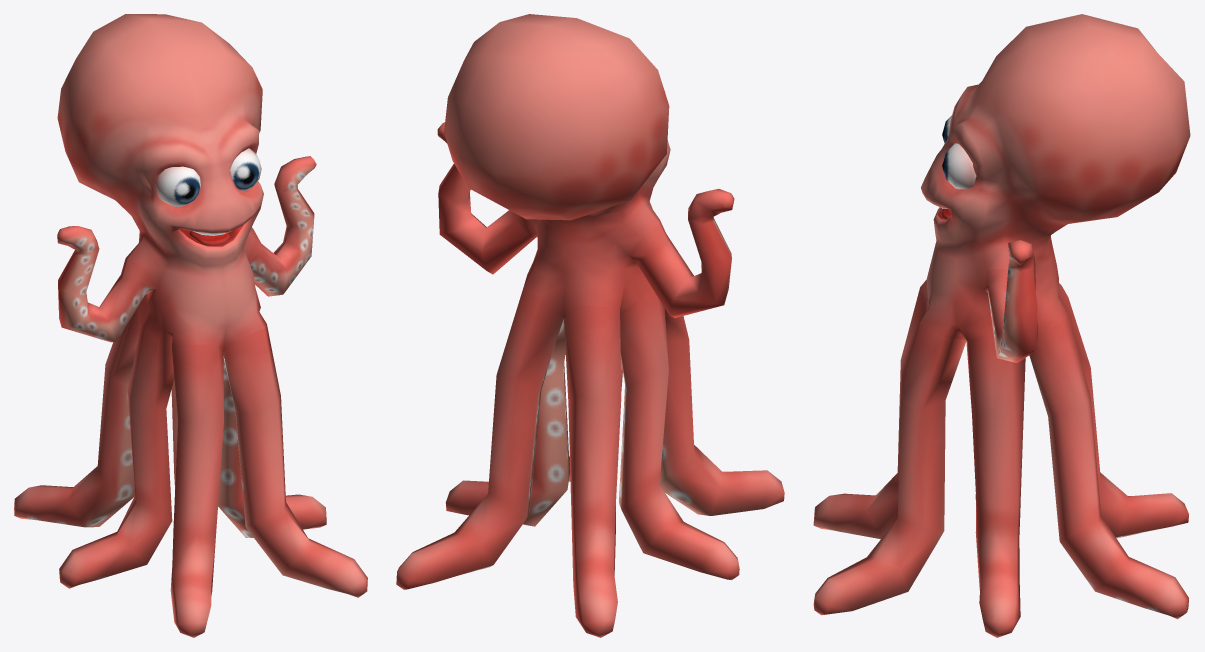
Rendered from Octopus.FBX.
The picture shows the model from 3 angles, left to right: view 1: azimuth 30°, elevation 25°; view 2: azimuth 150°, elevation 25°; view 3: azimuth 270°, elevation 25°; orthographic projection. The views are drawn at different scales.
Visible parts, largest first — view 1: Pulpo; view 2: Pulpo; view 3: Pulpo.
Part boxes in pixels (x1=…): Pulpo: x1=14, y1=14, x2=367, y2=637; Pulpo: x1=396, y1=14, x2=784, y2=637; Pulpo: x1=813, y1=14, x2=1190, y2=637.
Bounding box in the file's own units: 83.61 × 95.23 × 152.
